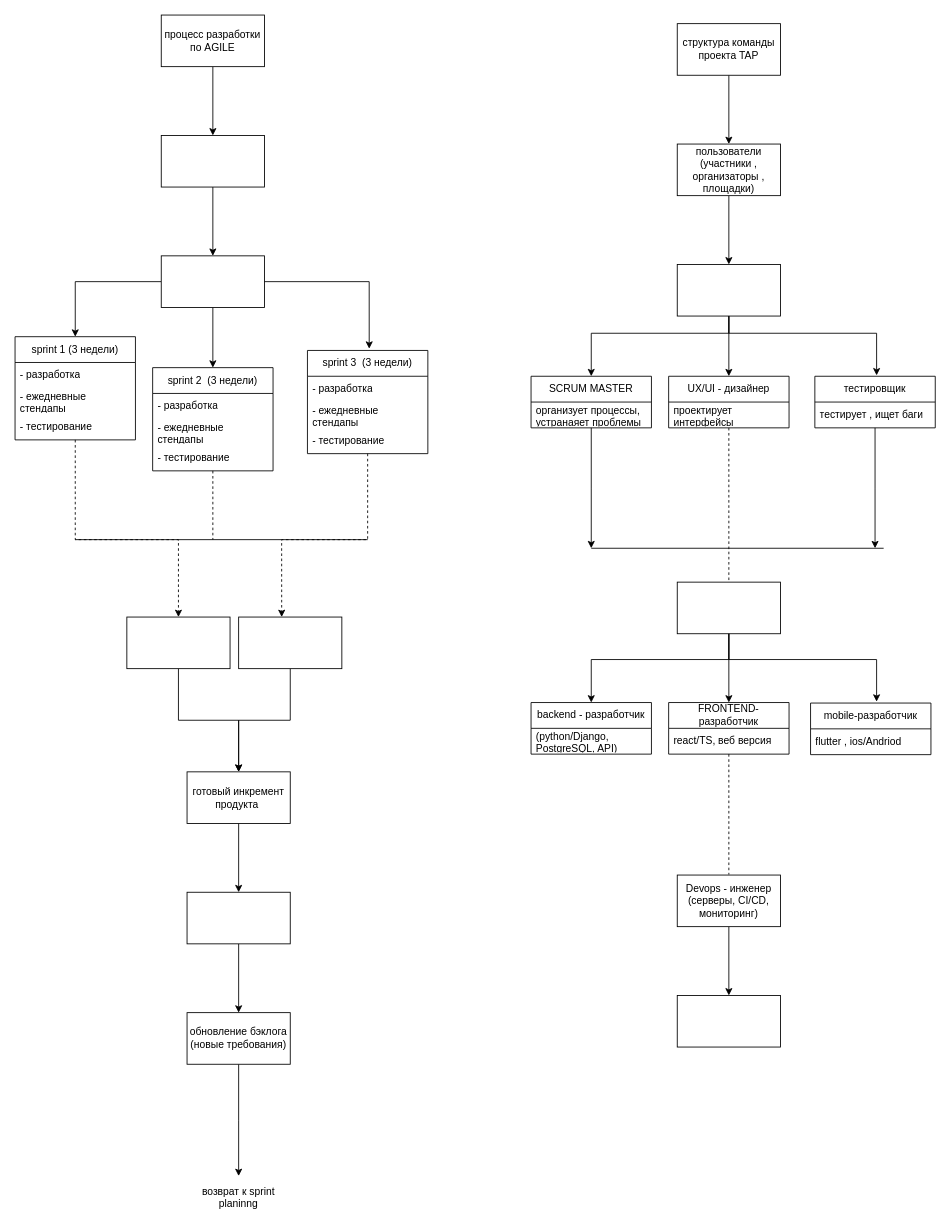
Image size: 950x1226. Some labels were removed from this diagram. Here are the shapes that lost their labels. From the top down, the centre of each, then its label:
pixel 212 161: Бэклог продукта (список всех задач проекта)
pixel 212 281: Sprint planning (отбор задач в спринт)
pixel 728 290: PRODUCT OWNER (формирует видение , ведет бэклог)
pixel 728 607: команда разработки
pixel 178 642: sprint review (демонстрация результата)
pixel 290 642: sprint retrospective (анализ и улучшение процесса)
pixel 238 917: обратная связь от пользователя
pixel 728 1021: продукт (веб-версия + мобильное приложение)
